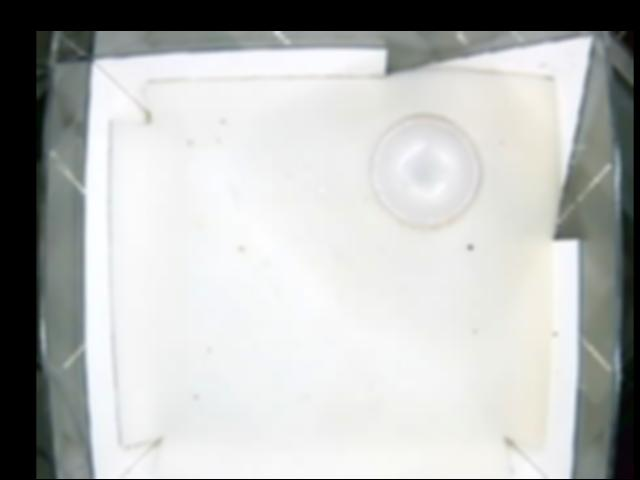Bottle: (368, 111, 481, 235)
